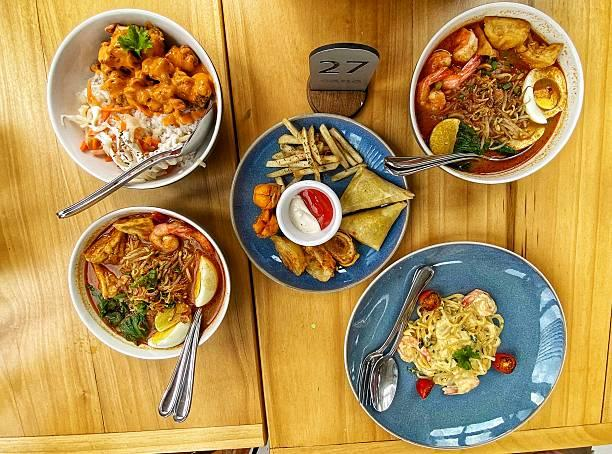Braised Crucian Carp: (344, 240, 563, 446), (228, 114, 408, 293), (45, 8, 220, 190), (409, 2, 582, 185), (67, 206, 228, 360)
